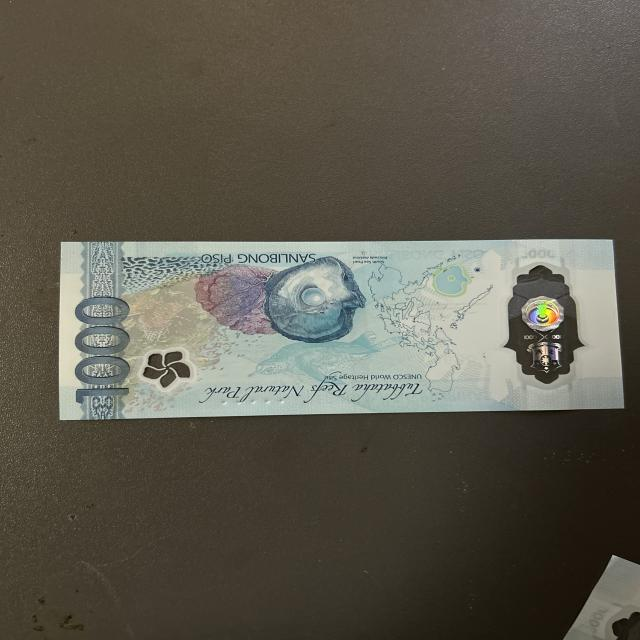clear_window: (503, 257, 590, 383)
sampaguita: (146, 350, 195, 392)
